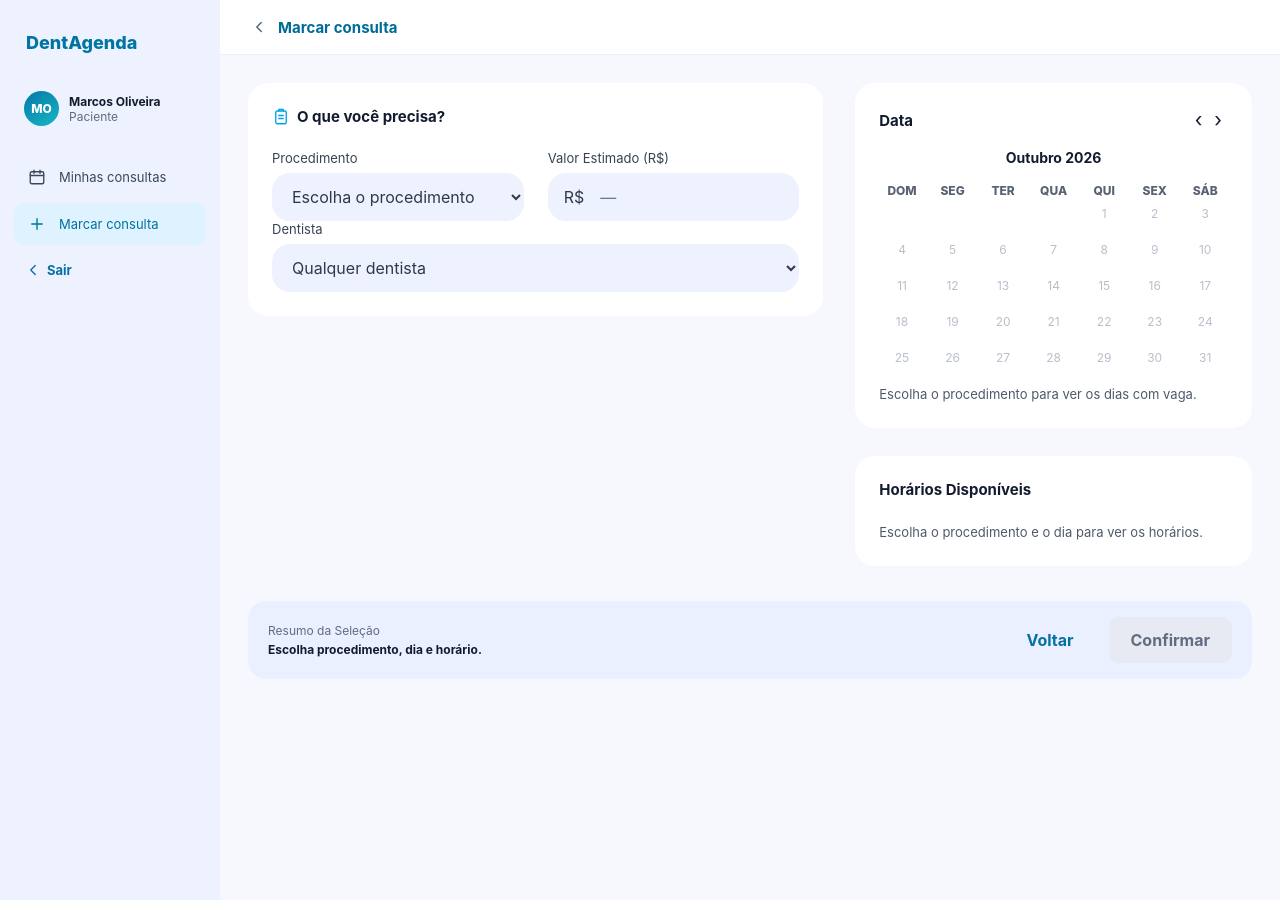
Marcar consulta pelo paciente (D35) › 409 de horário: mensagem de horário e vagas recarregadas
The width and height of the screenshot is (1280, 900).
Select "Limpeza (60 min)" in the dropdown labelled "Procedimento" at (398, 197), box top-left (272, 173), bottom-right (524, 221)
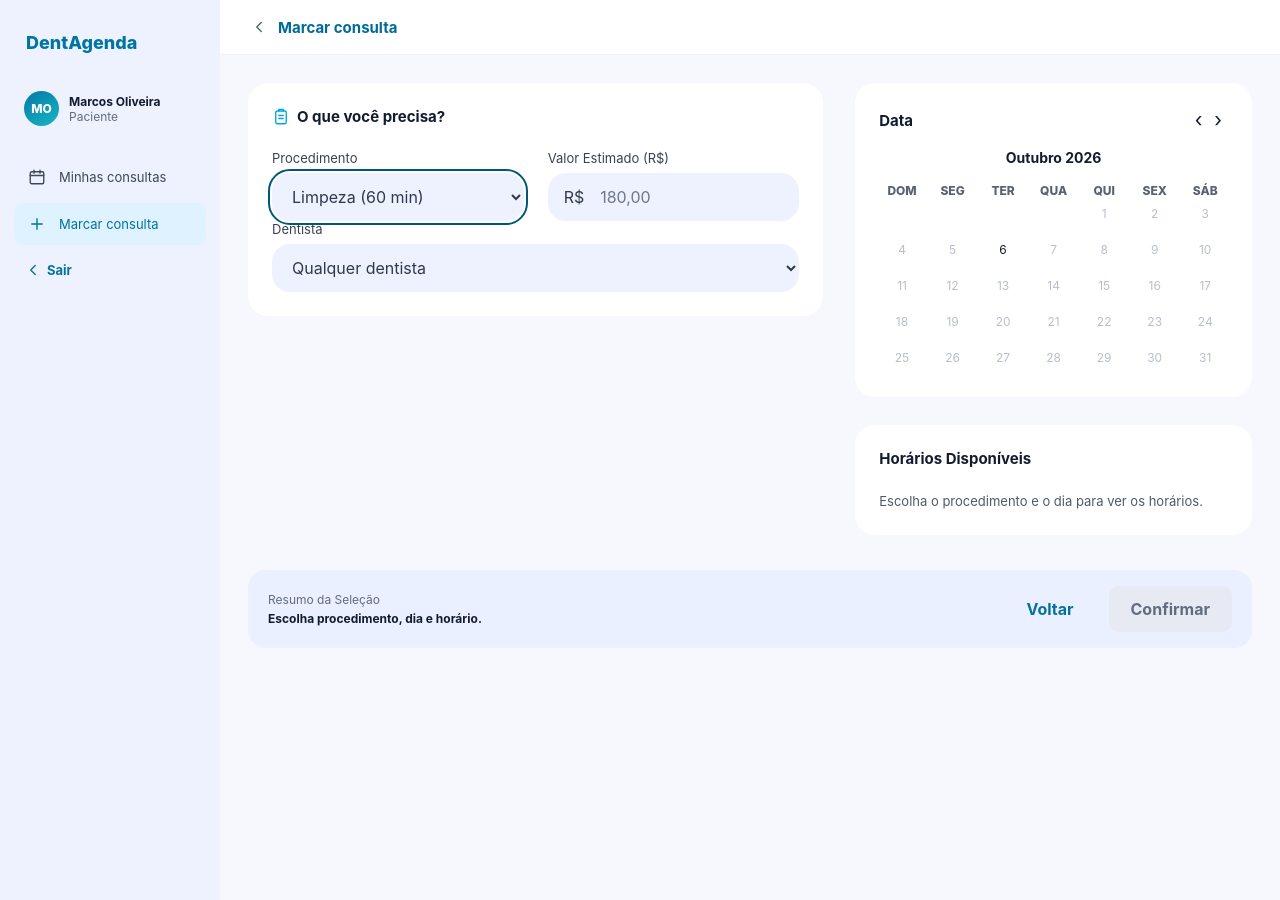
Check: the text "180,00" is shown, box top-left (600, 187), bottom-right (651, 207)
Click the button named "6 de outubro de 2026" at (1003, 250), box top-left (980, 234), bottom-right (1026, 265)
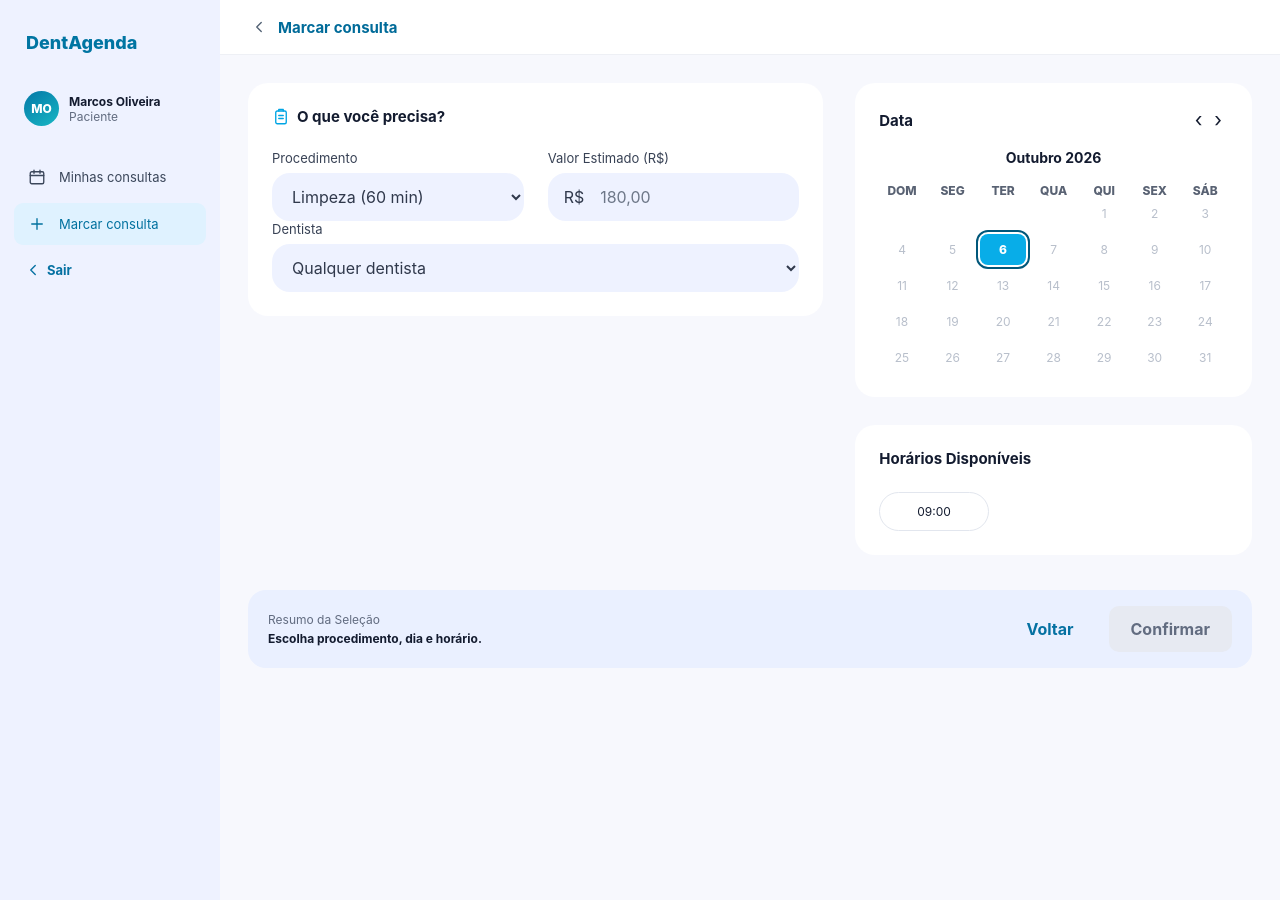
Click the button "09:00" at (934, 512), box top-left (879, 492), bottom-right (989, 531)
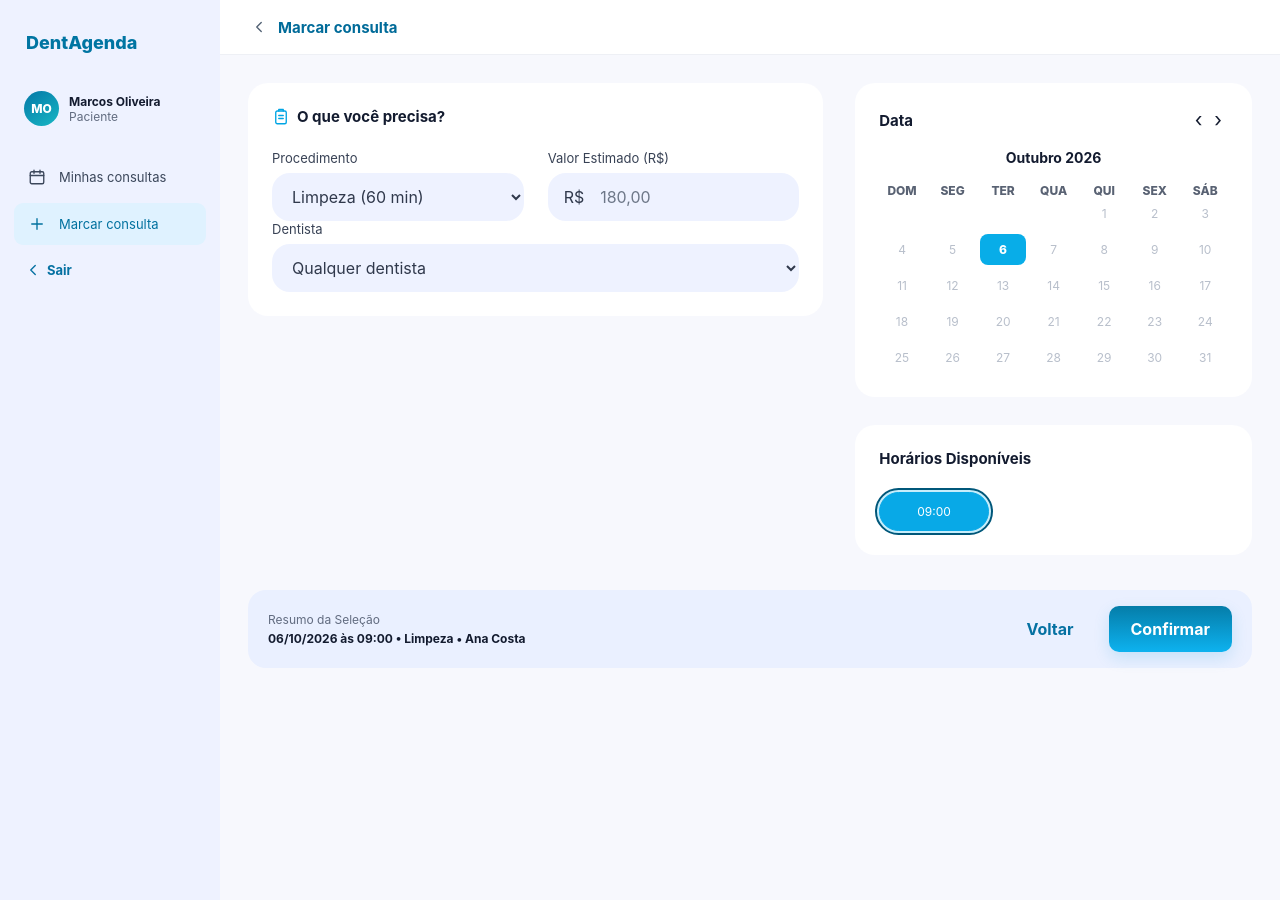
Click the button "Confirmar" at (1170, 629), box top-left (1108, 606), bottom-right (1232, 652)
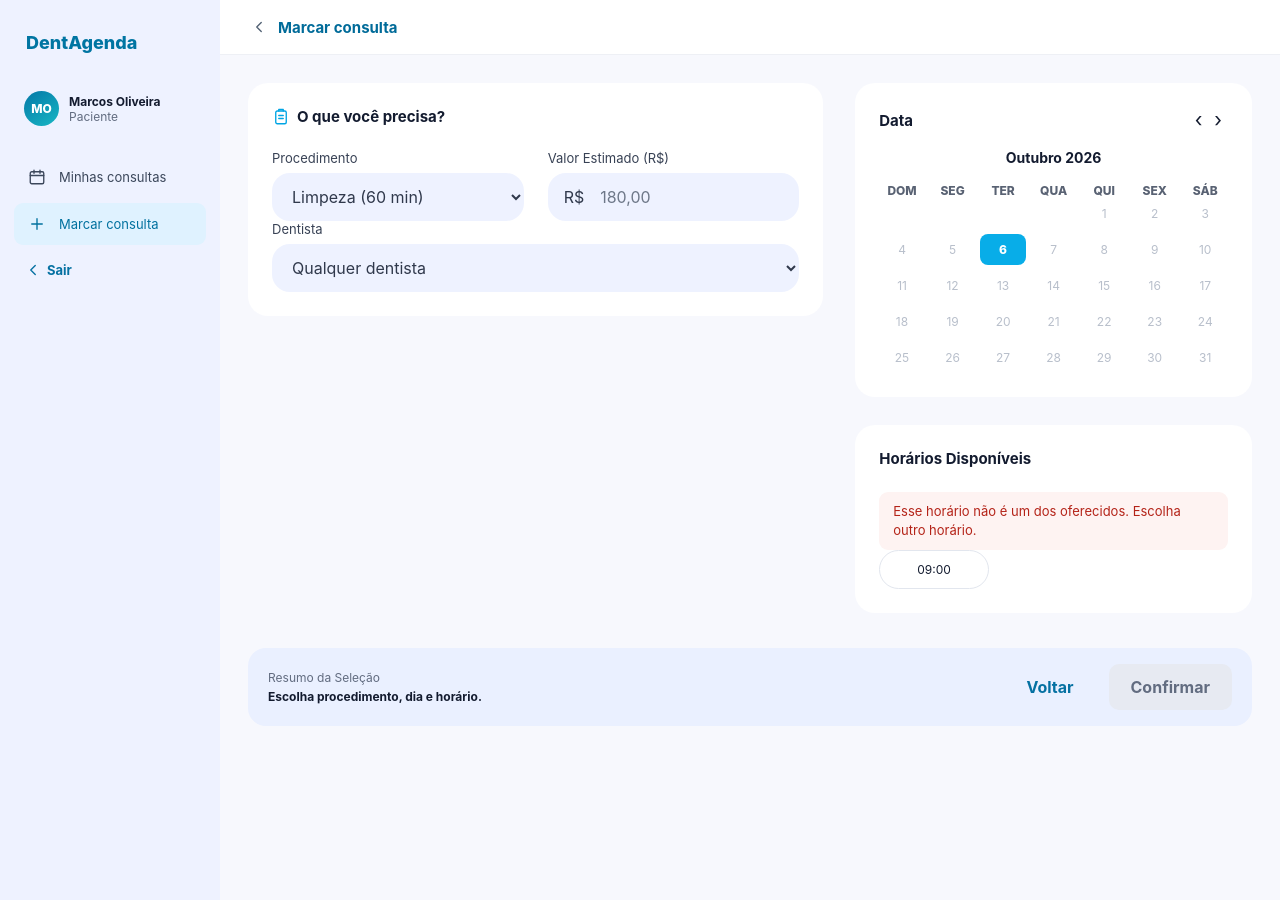
Check: the text "Esse horário não é um dos oferecidos. Escolha outro horário." is shown, box top-left (879, 492), bottom-right (1228, 550)
Check: the button "Confirmar" is disabled, box top-left (1108, 664), bottom-right (1232, 710)
